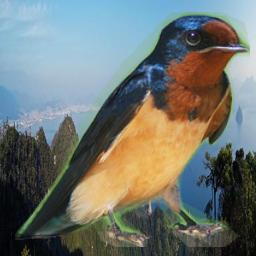Swallow: (15, 12, 250, 247)
